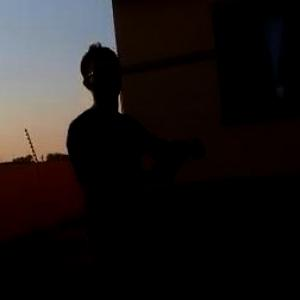follow: (67, 36, 213, 299)
